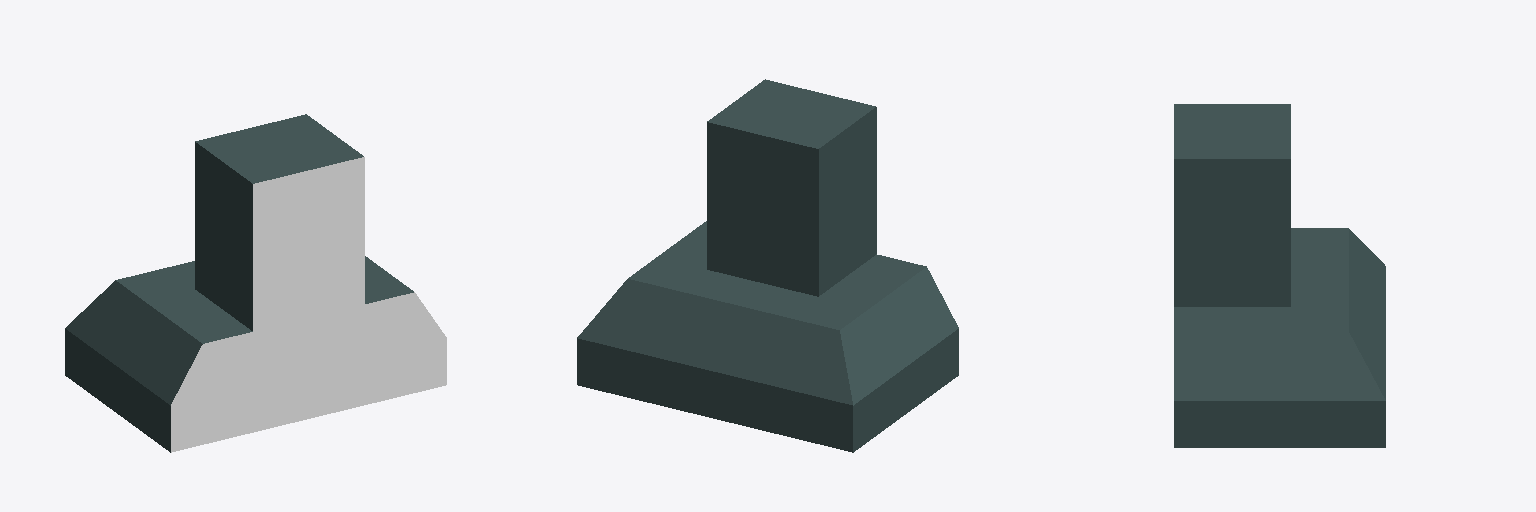
Rendered from hoodLarge.obj.
3 renders of one model, left to right at view 1: azimuth 30°, elevation 25°; view 2: azimuth 150°, elevation 25°; view 3: azimuth 270°, elevation 25°, orthographic.
Visible parts, largest first — view 1: hoodLarge; view 2: hoodLarge; view 3: hoodLarge.
Boxes of the visible parts, box(x1,y1,x2,y2) form: hoodLarge: box(65, 114, 446, 452); hoodLarge: box(577, 79, 958, 452); hoodLarge: box(1174, 104, 1385, 447).
Size of the model in its own units: 0.43 by 0.3695 by 0.2849.